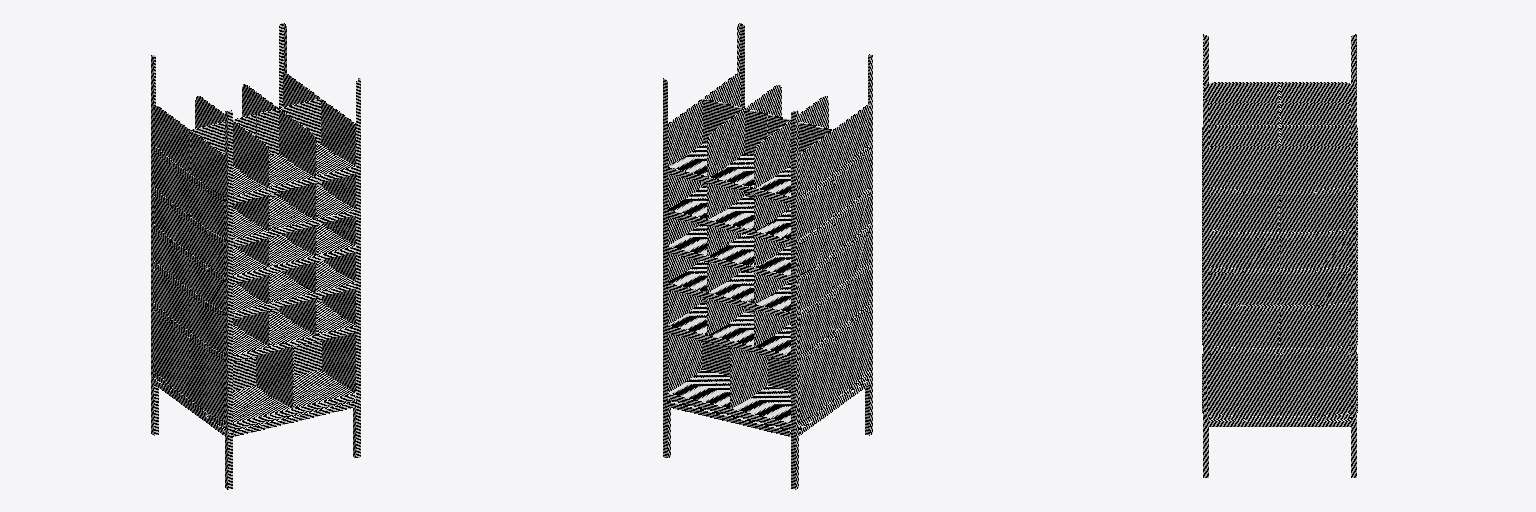
3 views of the same model, side by side, from view 1: azimuth 30°, elevation 25°; view 2: azimuth 150°, elevation 25°; view 3: azimuth 270°, elevation 25° (orthographic).
Bounding box in the file's own units: 0.8795 × 2.37 × 0.8842.
1 materials, 1 textured.